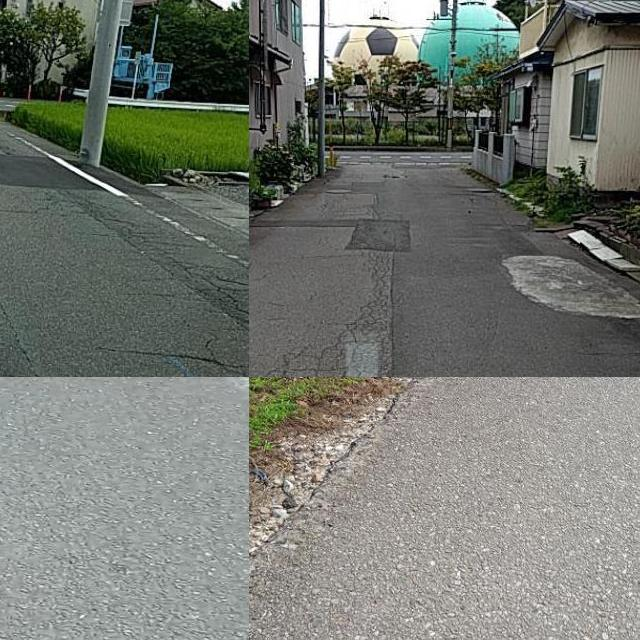Pinggir: (249, 377, 487, 640)
Sambungan: (503, 255, 640, 317), (249, 217, 412, 250), (0, 151, 103, 187)
